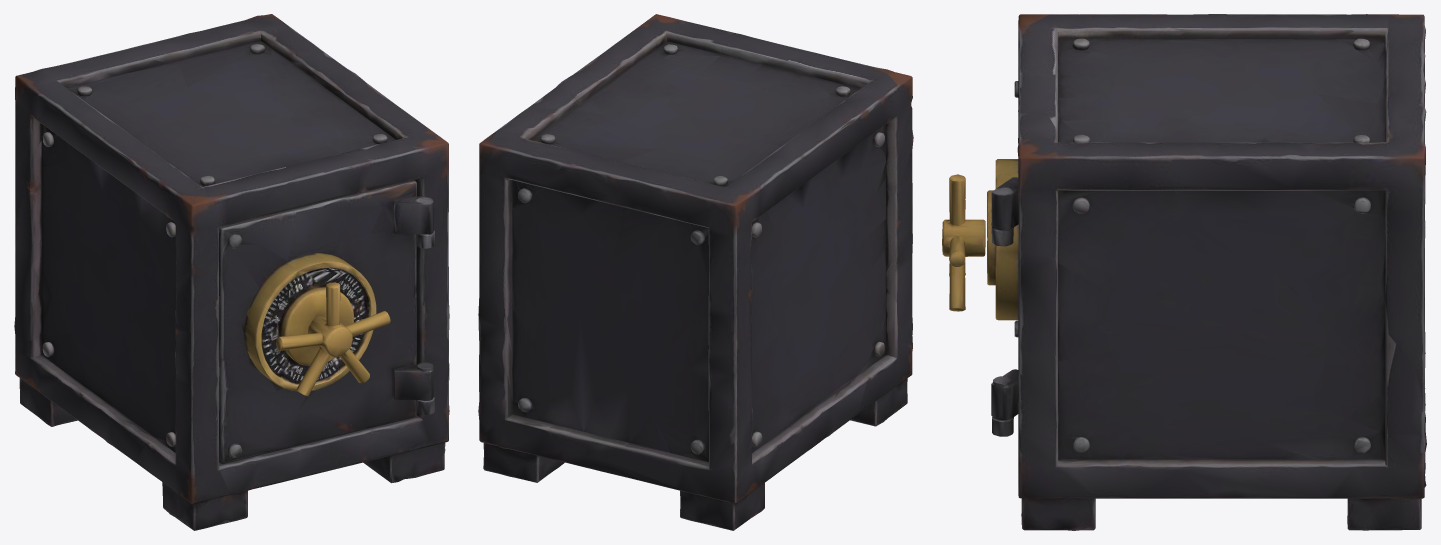
File: safe_metal_nastennyy_idle.glb
3 renders of one model, left to right at view 1: azimuth 30°, elevation 25°; view 2: azimuth 150°, elevation 25°; view 3: azimuth 270°, elevation 25°, orthographic. The views are drawn at different scales.
Visible parts, largest first — view 1: tripo_node_3c320a32-8335-4d0c-8746-a88ba75a122f; view 2: tripo_node_3c320a32-8335-4d0c-8746-a88ba75a122f; view 3: tripo_node_3c320a32-8335-4d0c-8746-a88ba75a122f.
Part boxes in pixels (x1,y1,x2,y2): tripo_node_3c320a32-8335-4d0c-8746-a88ba75a122f: [14, 14, 449, 530]; tripo_node_3c320a32-8335-4d0c-8746-a88ba75a122f: [478, 14, 913, 530]; tripo_node_3c320a32-8335-4d0c-8746-a88ba75a122f: [942, 14, 1426, 530].
Bounding box in the file's own units: 0.4957 × 0.5998 × 0.701.
1 material, 1 textured.
